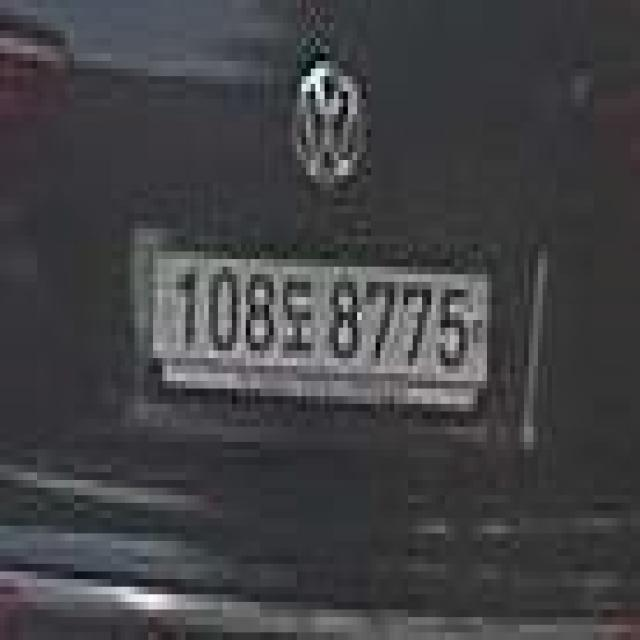illegal_plate: (140, 231, 495, 420)
